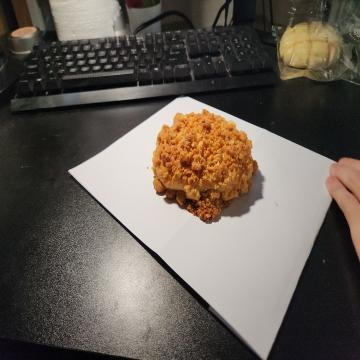soboru_bread: (150, 112, 254, 218)
